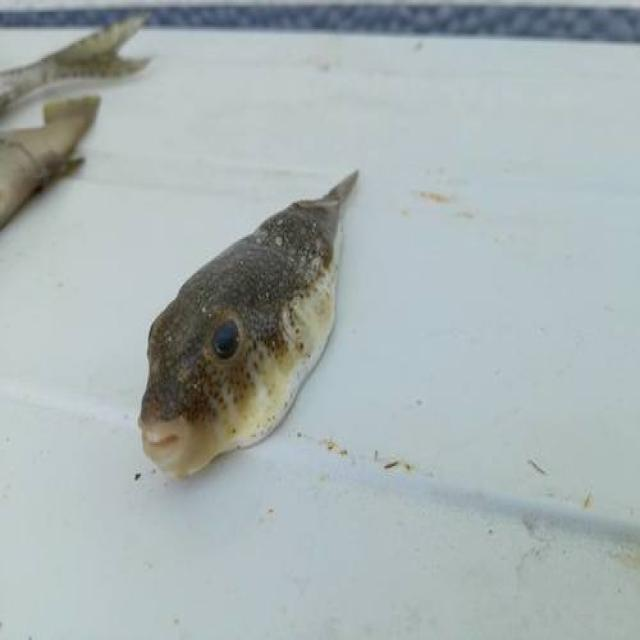Balik: (140, 173, 357, 476), (0, 16, 148, 112), (0, 96, 99, 228)
